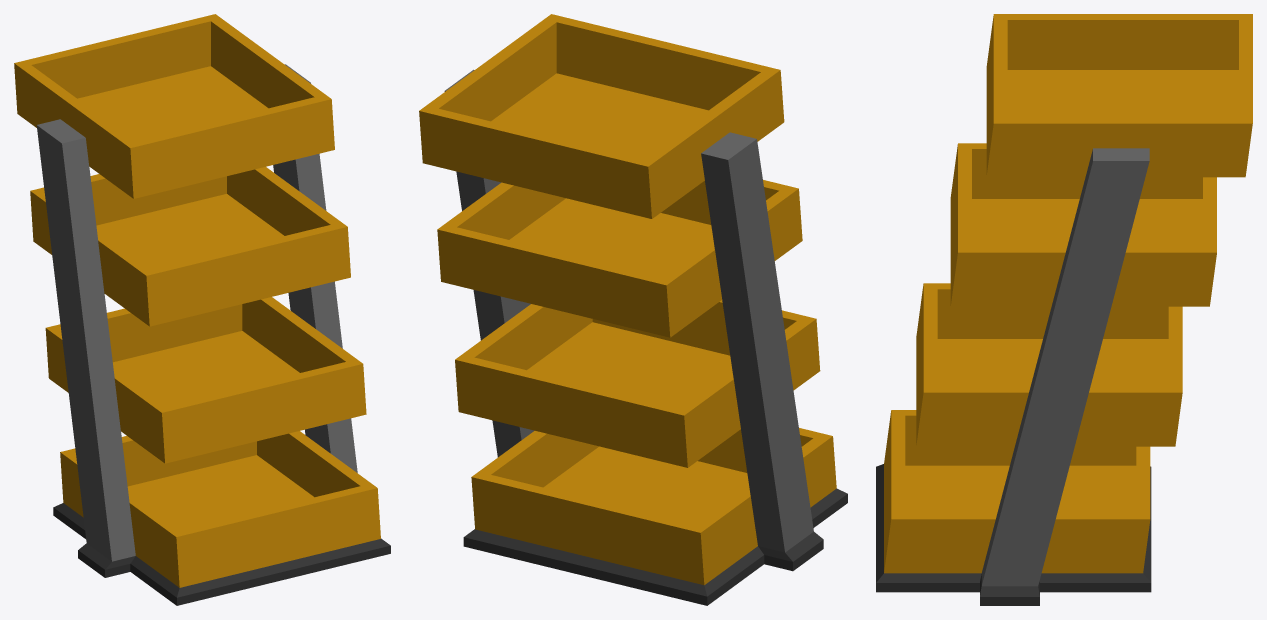
The model's file is Counter Rack #2.fbx.
The picture shows the model from 3 angles, left to right: view 1: azimuth 30°, elevation 25°; view 2: azimuth 150°, elevation 25°; view 3: azimuth 270°, elevation 25°; orthographic projection. The views are drawn at different scales.
Parts seen in each view (by area): view 1: Counter Rack #2; view 2: Counter Rack #2; view 3: Counter Rack #2.
Boxes of the visible parts, box(x1,y1,x2,y2) form: Counter Rack #2: box(14, 14, 390, 605); Counter Rack #2: box(419, 14, 847, 605); Counter Rack #2: box(876, 14, 1252, 605).
Size of the model in its own units: 35.75 by 53.91 by 39.56.
1 material, 1 textured.
